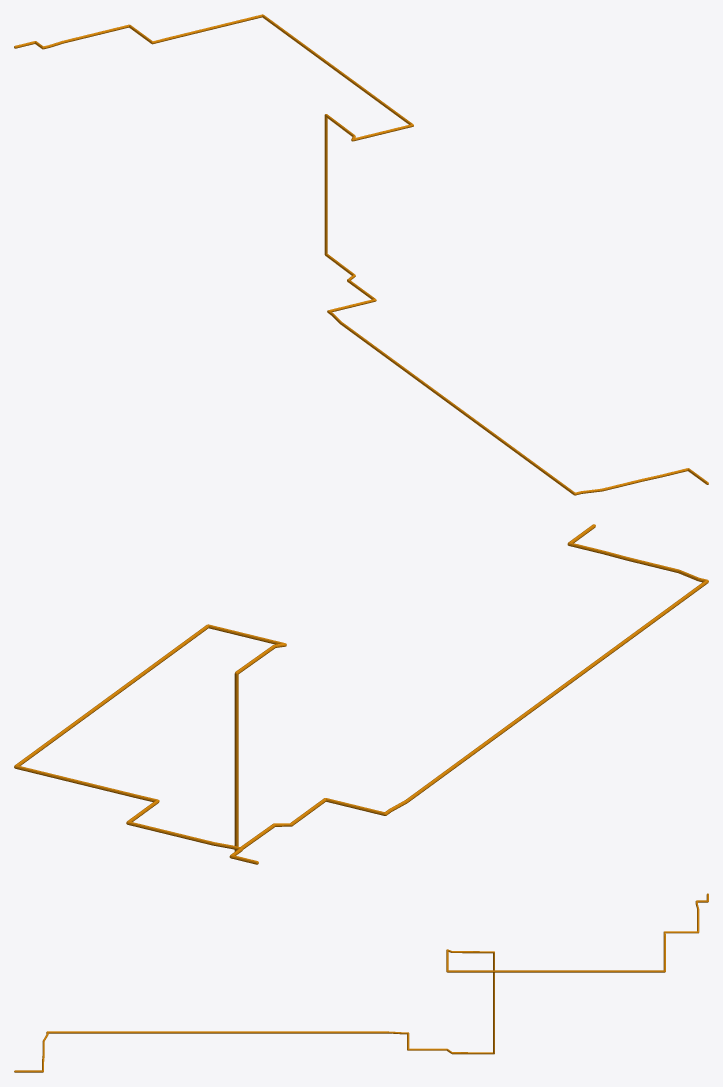
The picture shows the model from 3 angles, top to bottom: view 1: azimuth 30°, elevation 25°; view 2: azimuth 150°, elevation 25°; view 3: azimuth 270°, elevation 25°; orthographic projection. The views are drawn at different scales.
Bounding box in the file's own units: 1655 × 1020 × 6232.
